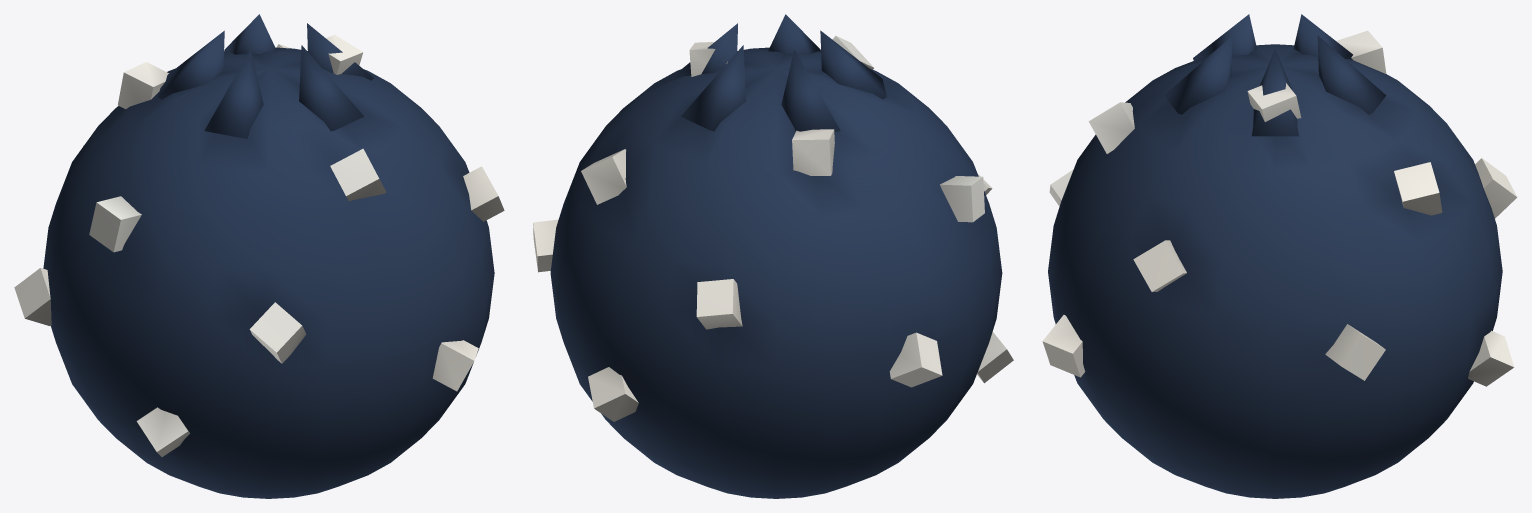
The model's file is col_berry_frost.glb.
3 renders of one model, left to right at view 1: azimuth 30°, elevation 25°; view 2: azimuth 150°, elevation 25°; view 3: azimuth 270°, elevation 25°, orthographic.
Visible parts, largest first — view 1: col_berry_frost; view 2: col_berry_frost; view 3: col_berry_frost.
Boxes of the visible parts, x1,y1,x2,y2 form: col_berry_frost: [14, 14, 504, 498]; col_berry_frost: [533, 14, 1013, 498]; col_berry_frost: [1042, 14, 1517, 498].
Size of the model in its own units: 0.3897 by 0.4 by 0.3839.
